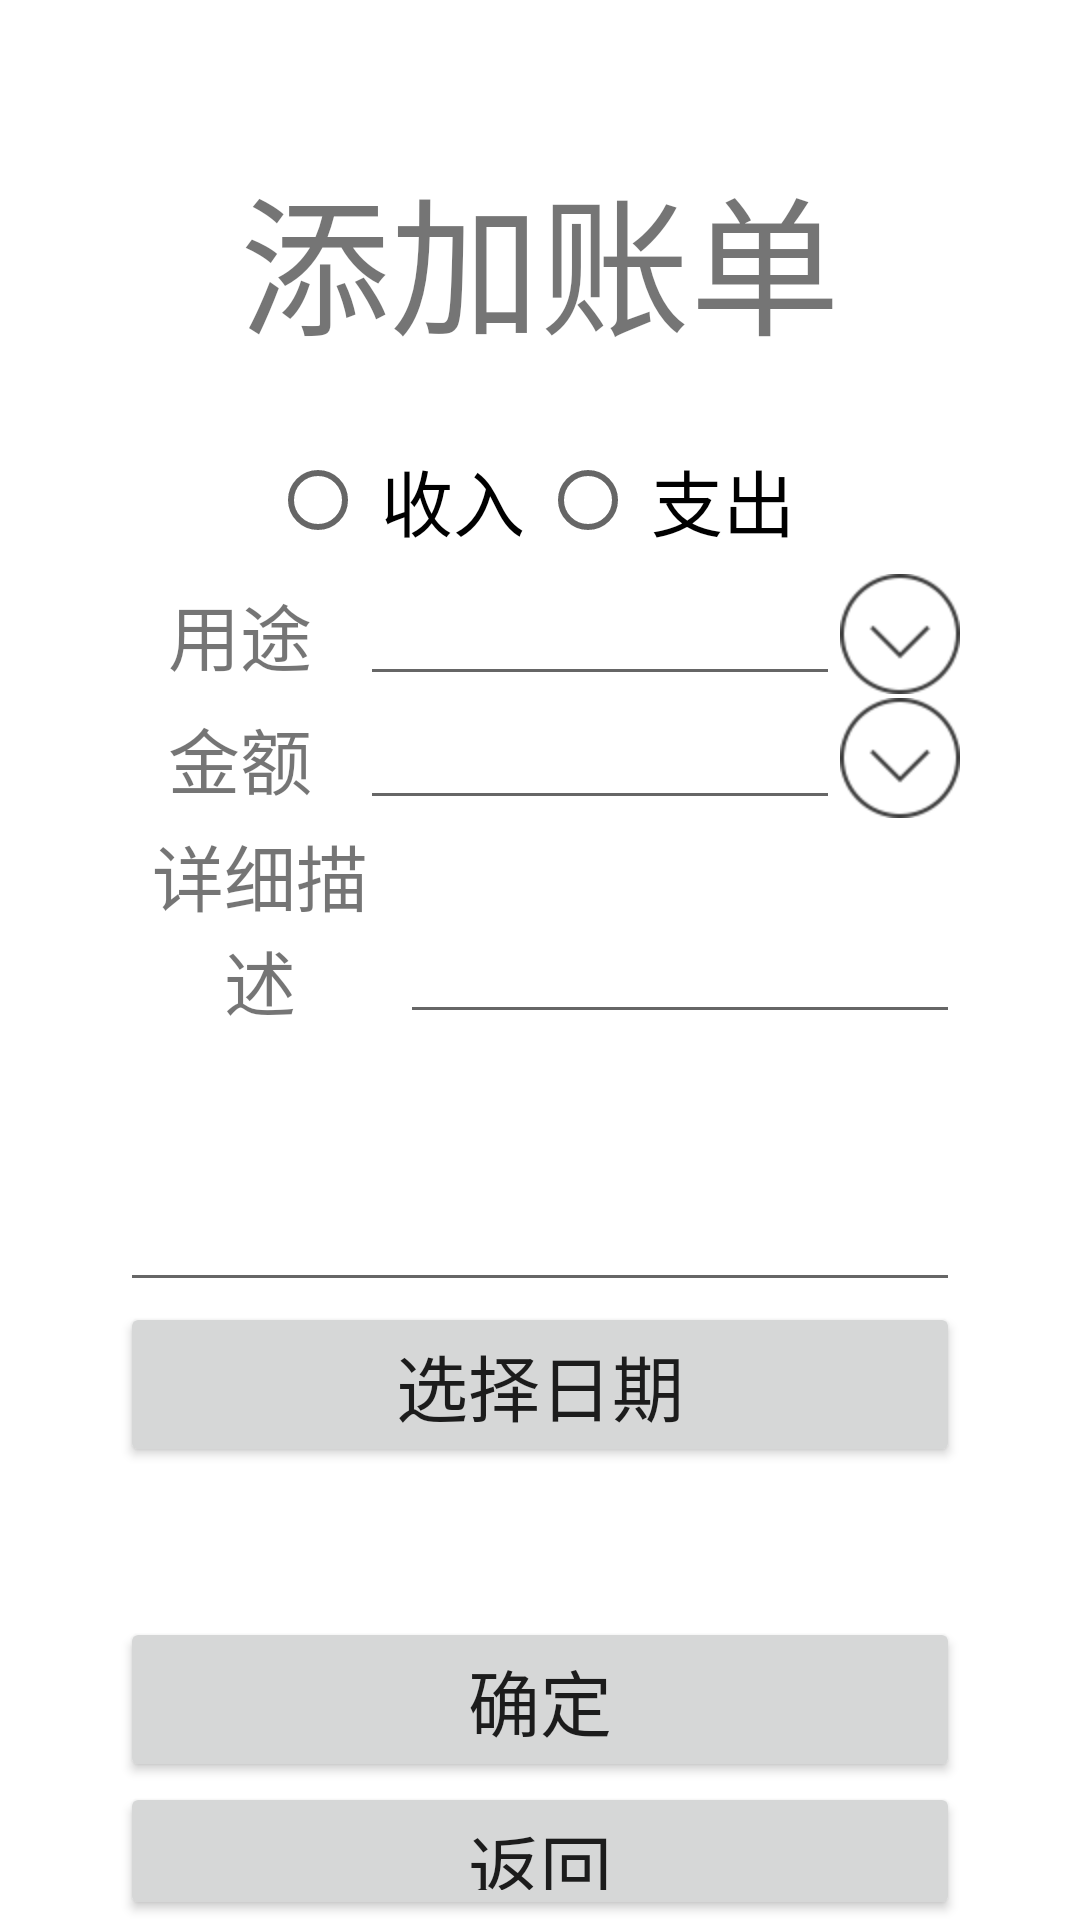

Named icons in this screenshot (1080 x 1920) and their bounding boxes, (x1, y1, x2, y2):
drop: (840, 574, 960, 694), (840, 698, 960, 818)
